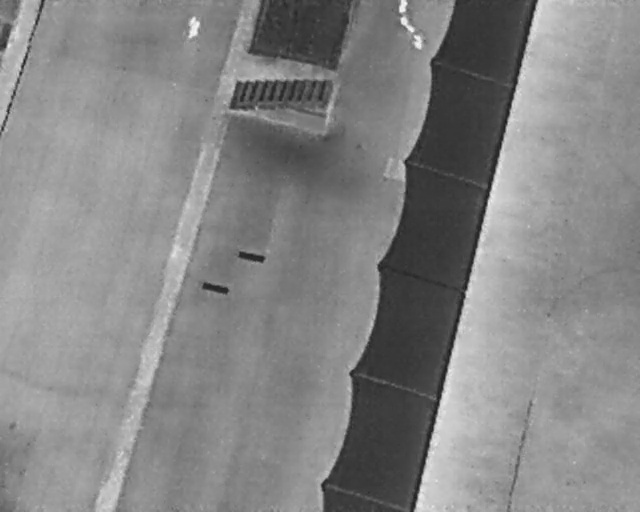Person: (186, 13, 201, 40)
